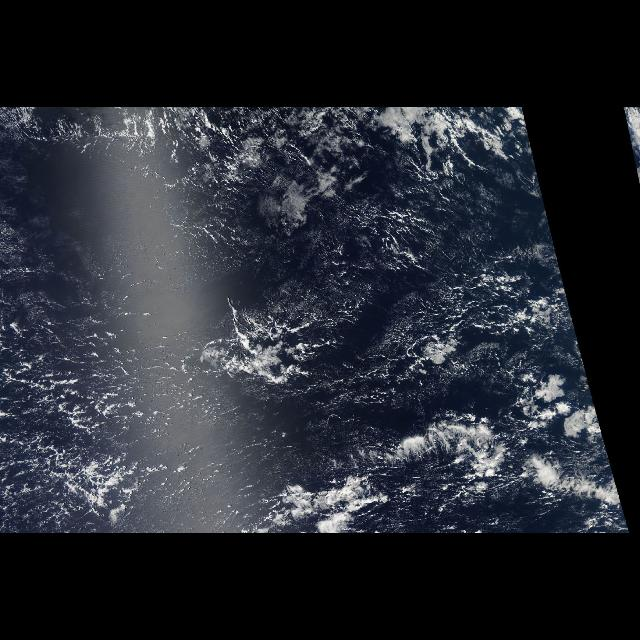Fish: (391, 417, 624, 505)
Gravel: (344, 261, 560, 481), (0, 307, 204, 533)
Sugar: (0, 218, 216, 532), (336, 194, 570, 384)
